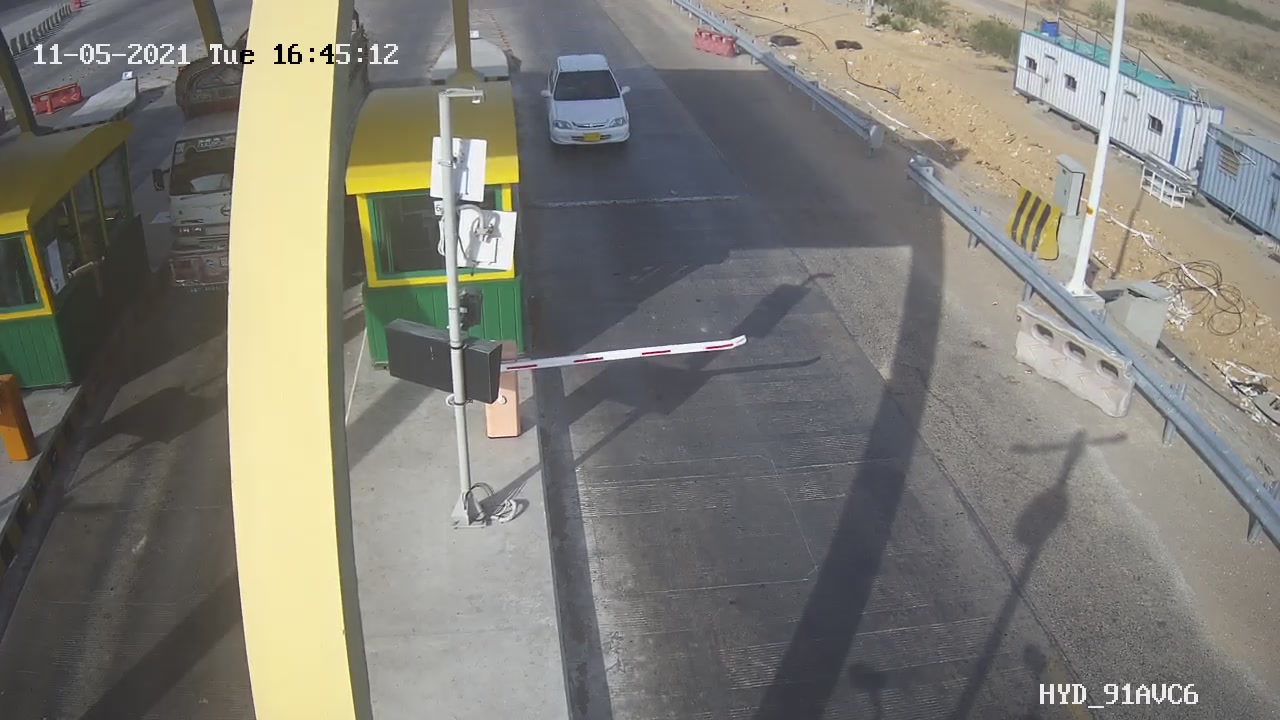F1: (529, 44, 659, 156)
